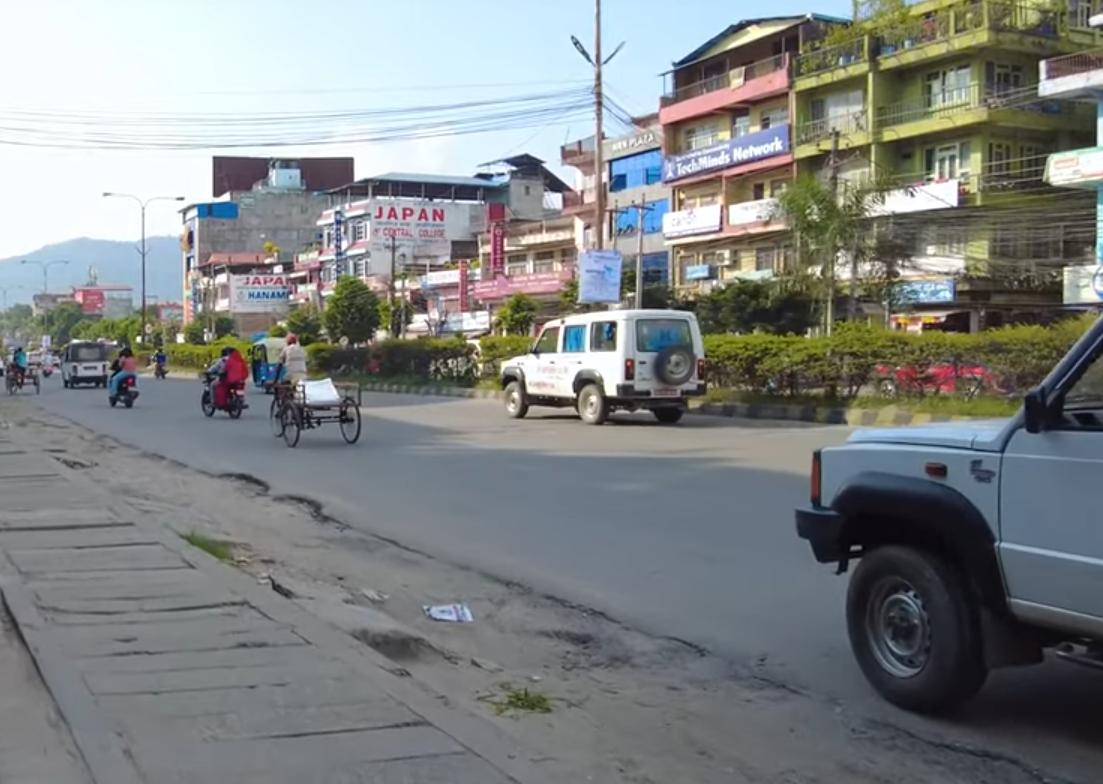ambulance: (494, 301, 712, 443)
van: (59, 338, 109, 390)
